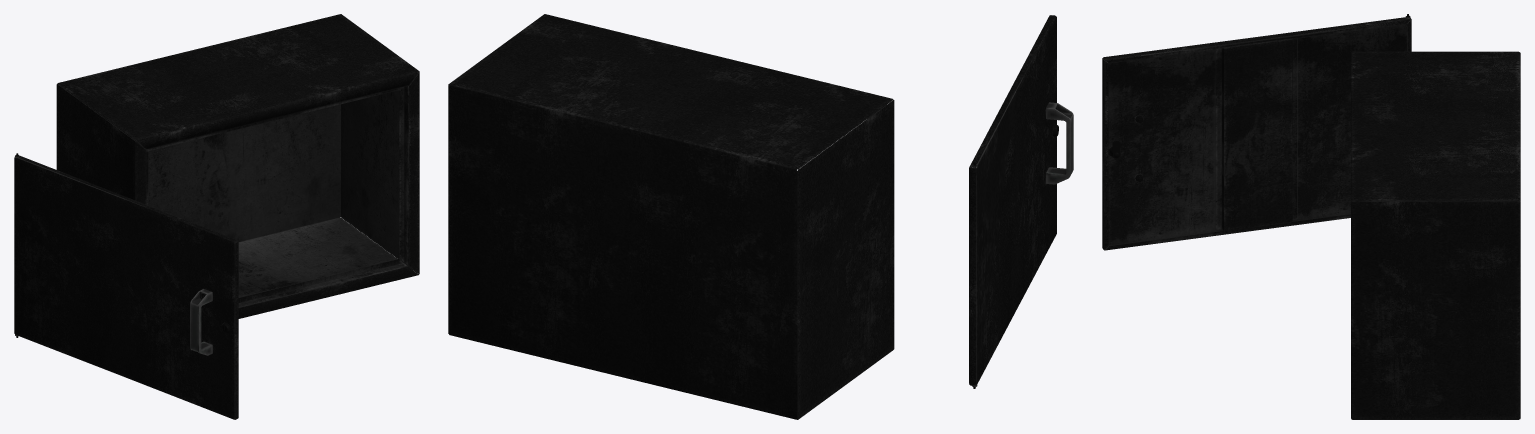
The model's file is Safebox.fbx.
3 renders of one model, left to right at view 1: azimuth 30°, elevation 25°; view 2: azimuth 150°, elevation 25°; view 3: azimuth 270°, elevation 25°, orthographic. The views are drawn at different scales.
Parts seen in each view (by area): view 1: Cassaforte-Opened, Door001; view 2: Cassaforte-Opened, Door001; view 3: Cassaforte-Opened, Door001.
Part boxes in pixels (box(x1,y1,x2,y2)): Cassaforte-Opened: box(56, 14, 419, 318); Door001: box(14, 153, 238, 419); Cassaforte-Opened: box(448, 14, 894, 419); Door001: box(969, 15, 1073, 388); Cassaforte-Opened: box(1351, 51, 1520, 419); Door001: box(1102, 14, 1411, 250).
Bounding box in the file's own units: 72.58 × 37.42 × 64.6.
1 material, 1 textured.
